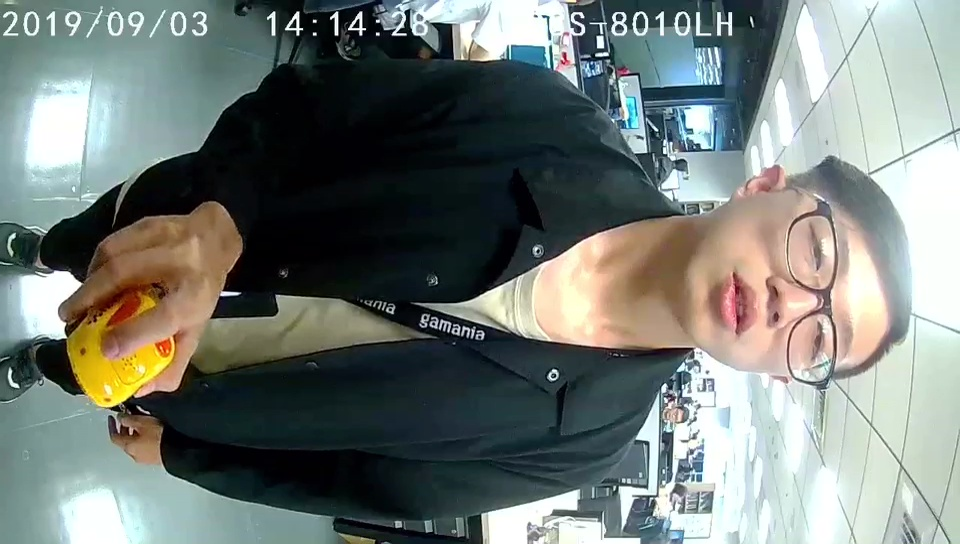car: (68, 288, 176, 406)
